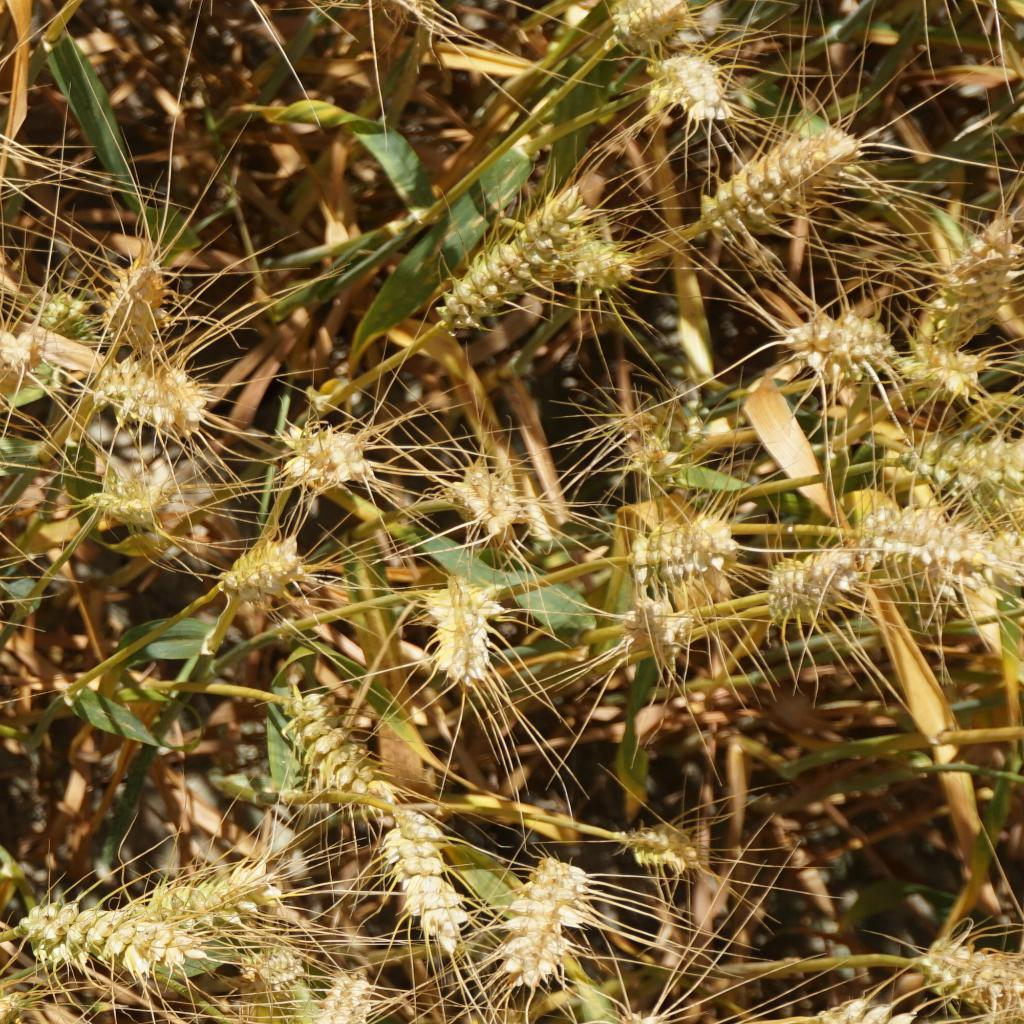0-0: (416, 169, 581, 337), (0, 847, 186, 984), (369, 794, 486, 971), (258, 686, 409, 822), (691, 131, 877, 237), (488, 843, 598, 984), (775, 286, 903, 403), (418, 570, 519, 700), (609, 377, 718, 487), (517, 214, 647, 304), (931, 205, 1011, 342), (442, 451, 546, 555), (269, 414, 385, 506), (616, 506, 744, 585), (140, 861, 302, 922), (860, 508, 1003, 576), (911, 931, 1024, 1014), (636, 38, 734, 131), (100, 354, 207, 438), (891, 427, 1024, 490), (216, 529, 309, 614), (94, 254, 173, 345), (762, 547, 858, 620), (615, 591, 698, 673), (90, 465, 171, 536), (893, 339, 983, 400), (591, 0, 706, 47), (619, 815, 699, 880), (307, 965, 393, 1024), (823, 995, 986, 1024), (239, 935, 306, 992), (28, 285, 92, 343), (0, 325, 25, 418), (0, 972, 32, 1024), (600, 1006, 669, 1024)
